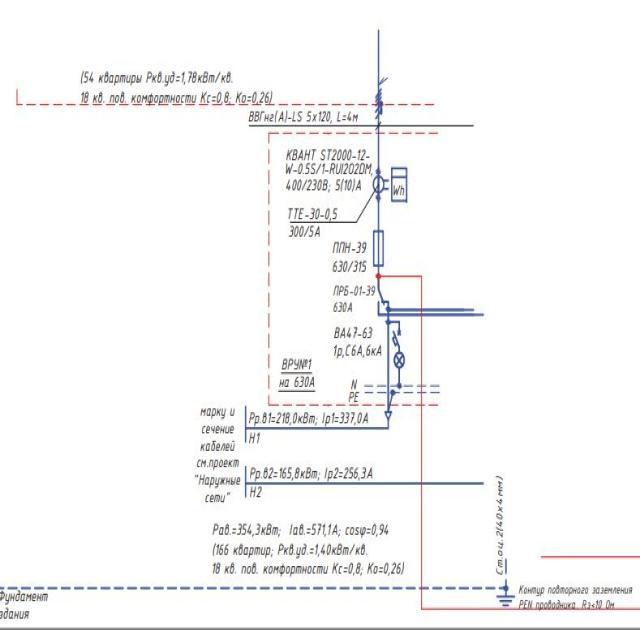-: (284, 146, 374, 196), (284, 201, 339, 237), (332, 321, 383, 359), (330, 279, 376, 316), (278, 354, 317, 391), (331, 237, 370, 273)
FU: (372, 228, 384, 268)
HL: (393, 351, 405, 368)
QF: (391, 324, 401, 350)
TT: (372, 172, 390, 195)
WH: (390, 165, 409, 204)
switch: (375, 284, 389, 316)
